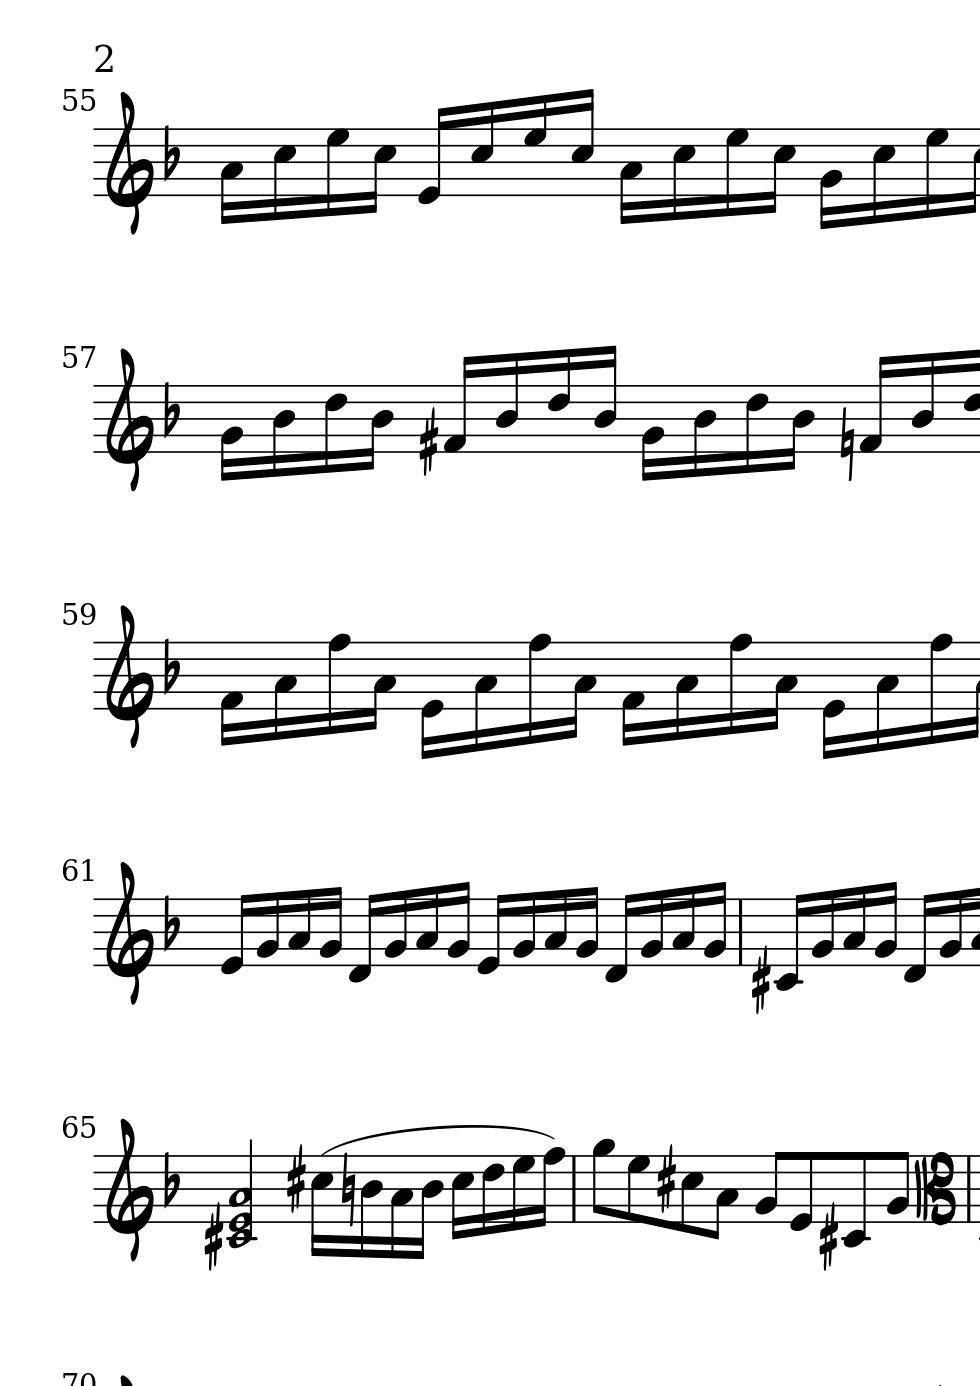1: (80, 856, 94, 885)
16_-1: (902, 889, 934, 986), (346, 890, 379, 986), (603, 889, 636, 985)
16_-2: (773, 891, 805, 992)
16_0: (414, 105, 449, 206), (821, 638, 847, 762), (419, 639, 445, 760), (216, 892, 252, 977), (474, 892, 508, 978)
16_1: (441, 354, 476, 456), (859, 354, 891, 456), (218, 639, 244, 749), (619, 639, 645, 748)
16_2: (817, 127, 842, 232), (638, 383, 665, 483), (218, 382, 244, 484), (701, 880, 728, 968), (872, 880, 898, 968), (445, 880, 471, 969), (574, 885, 600, 968), (938, 888, 964, 969), (253, 890, 281, 968), (382, 888, 408, 968), (638, 888, 665, 968), (809, 890, 836, 969), (317, 885, 343, 968), (510, 890, 537, 968)
16_3: (564, 641, 597, 741), (471, 641, 497, 755), (873, 641, 899, 755), (364, 641, 396, 731), (766, 641, 798, 731), (272, 641, 298, 743), (672, 641, 699, 742), (387, 1153, 412, 1261), (218, 126, 244, 227), (617, 127, 643, 226), (414, 884, 440, 967), (670, 884, 696, 967), (542, 889, 568, 967), (841, 885, 867, 966), (286, 889, 312, 966)
16_4: (412, 1154, 444, 1261), (592, 344, 619, 455), (361, 383, 393, 472), (909, 352, 937, 455), (783, 383, 815, 472), (493, 352, 521, 454), (269, 383, 296, 480), (690, 384, 717, 479), (358, 1154, 382, 1261)
16_5: (362, 127, 397, 217), (762, 127, 797, 216), (568, 87, 595, 198), (469, 98, 496, 198), (308, 1154, 333, 1260), (870, 126, 895, 227), (270, 126, 296, 222), (670, 126, 696, 222), (449, 1153, 474, 1239)
16_6: (546, 347, 573, 455), (321, 382, 348, 476), (742, 382, 769, 475), (480, 1153, 506, 1235)
16_7: (522, 93, 549, 198), (923, 125, 949, 223), (722, 125, 749, 220), (323, 124, 349, 220), (510, 1153, 533, 1232)
16_8: (524, 632, 552, 748), (926, 632, 952, 748), (725, 633, 752, 739), (323, 633, 350, 738), (535, 1146, 565, 1229)
2: (92, 43, 113, 73)
2_th: (226, 1139, 259, 1255)
5: (78, 86, 97, 115), (60, 599, 78, 628), (78, 1112, 97, 1141), (60, 343, 77, 371), (62, 86, 78, 113)
6: (62, 856, 80, 884), (60, 1112, 78, 1141)
7: (80, 343, 97, 372)
8_-2: (841, 1150, 870, 1248)
8_0: (787, 1150, 813, 1235)
8_2: (752, 1150, 784, 1225), (883, 1150, 909, 1224)
8_3: (707, 1154, 738, 1242)
8_5: (679, 1153, 703, 1236)
8_7: (625, 1154, 649, 1226)
8_9: (590, 1138, 614, 1224)
9: (78, 599, 97, 628)
Cclef: (914, 1151, 957, 1224)
Flat: (160, 122, 183, 182), (161, 893, 183, 955), (160, 1150, 183, 1208), (160, 379, 182, 439), (161, 636, 183, 696)
Gclef: (103, 347, 155, 493), (104, 89, 155, 236), (104, 860, 155, 1006), (104, 1117, 154, 1264), (104, 603, 154, 750)
Natural: (339, 1150, 358, 1227), (838, 405, 855, 483)
Sharp: (283, 1142, 307, 1216), (203, 1197, 223, 1271), (417, 406, 438, 476), (654, 1144, 676, 1213), (818, 1204, 838, 1271), (750, 949, 770, 1014)
Single_barline: (732, 899, 748, 966), (961, 1155, 976, 1222), (567, 1156, 581, 1223)
